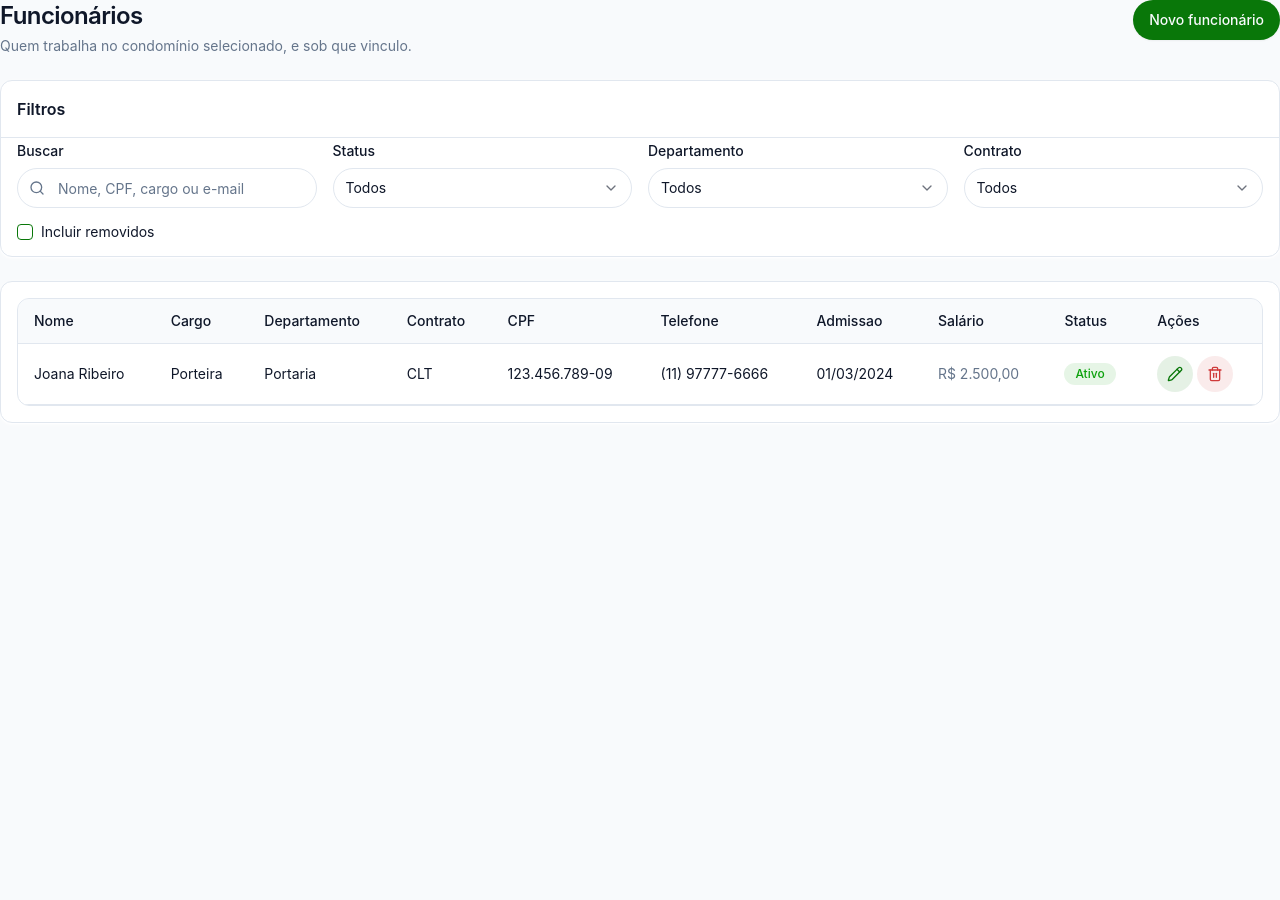
Exclusao e restauração de funcionários › a exclusao pede confirmação antes de chegar ao servidor
The image size is (1280, 900).
Expected: the text "Joana Ribeiro" is shown, [34,364,124,384]
Click the button named "Excluir Joana Ribeiro" at (1215, 374), box [1197,356,1233,392]
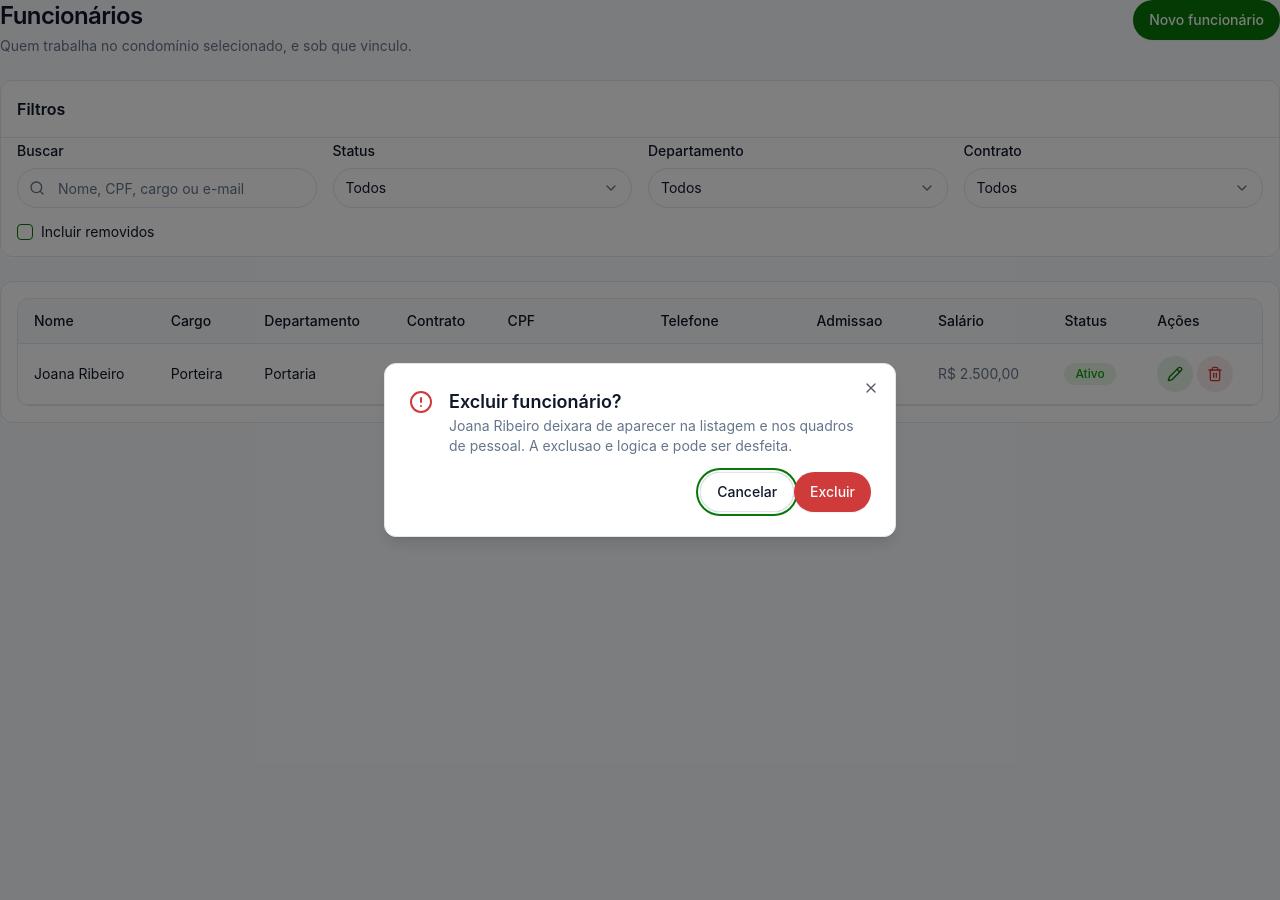
Expected: the heading "Excluir funcionário?" is shown, [449,391,622,412]
Click the button "Excluir" at (833, 492), box [794,472,871,512]
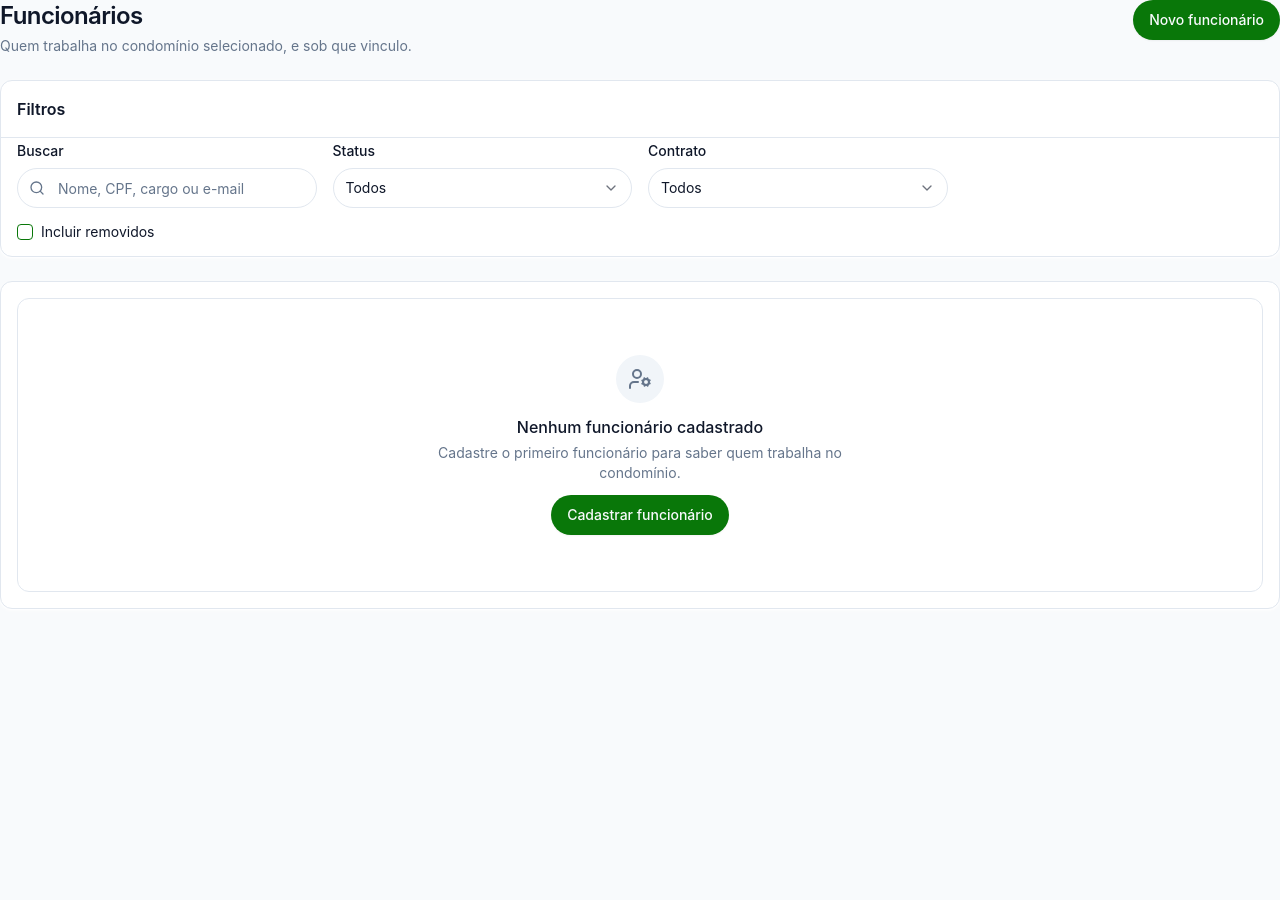
Expected: the text "Joana Ribeiro" is gone
